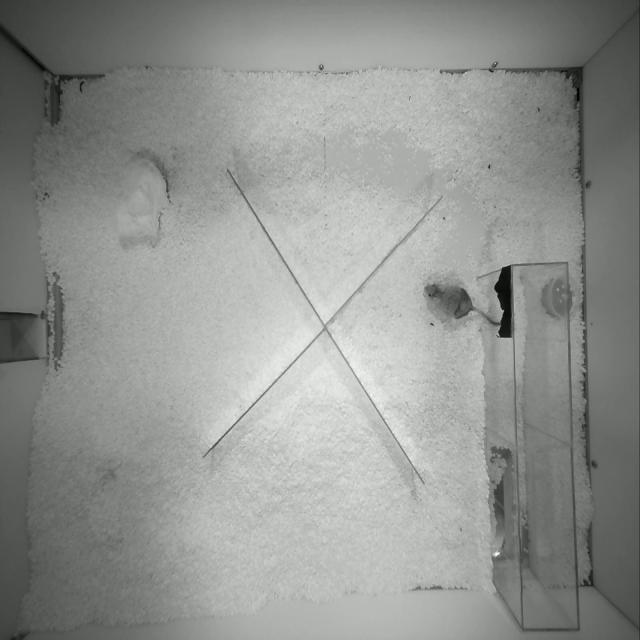adult_back: (423, 284, 500, 325)
